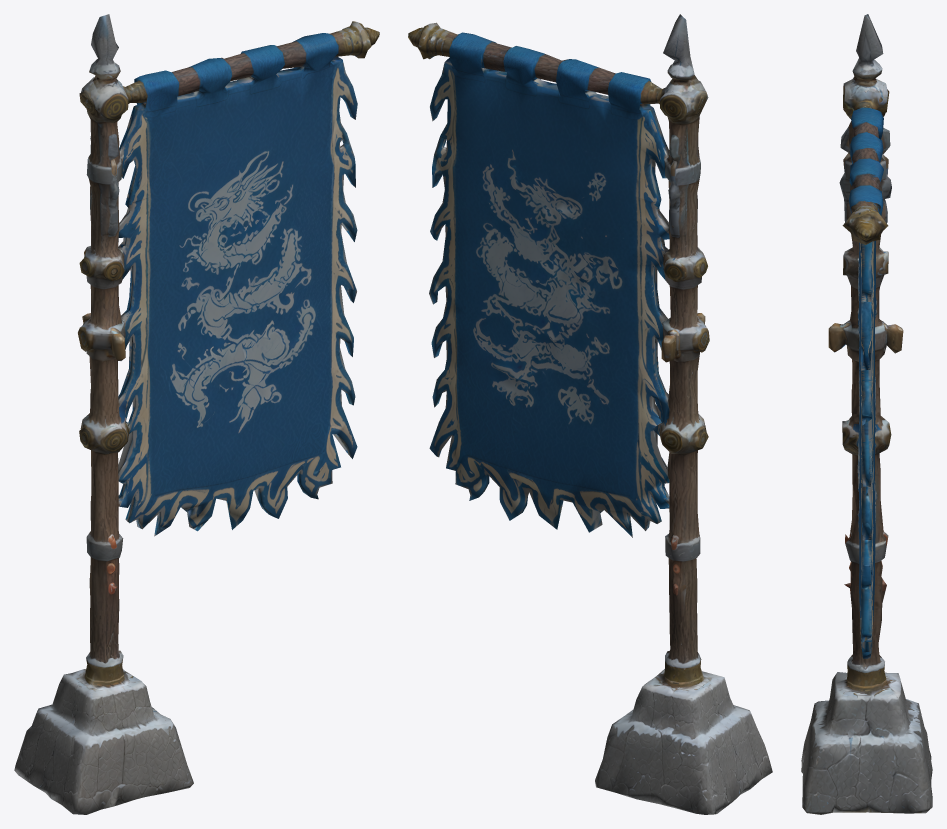
Rendered from PR_ObangFlag_Blue.fbx.
3 renders of one model, left to right at view 1: azimuth 30°, elevation 25°; view 2: azimuth 150°, elevation 25°; view 3: azimuth 270°, elevation 25°, orthographic.
Visible parts, largest first — view 1: texture_mapping; view 2: texture_mapping; view 3: texture_mapping.
Boxes of the visible parts, x1,y1,x2,y2 form: texture_mapping: [14, 14, 379, 814]; texture_mapping: [408, 14, 772, 814]; texture_mapping: [801, 14, 932, 814].
Size of the model in its own units: 0.4598 by 0.1547 by 1.
1 material, 1 textured.
